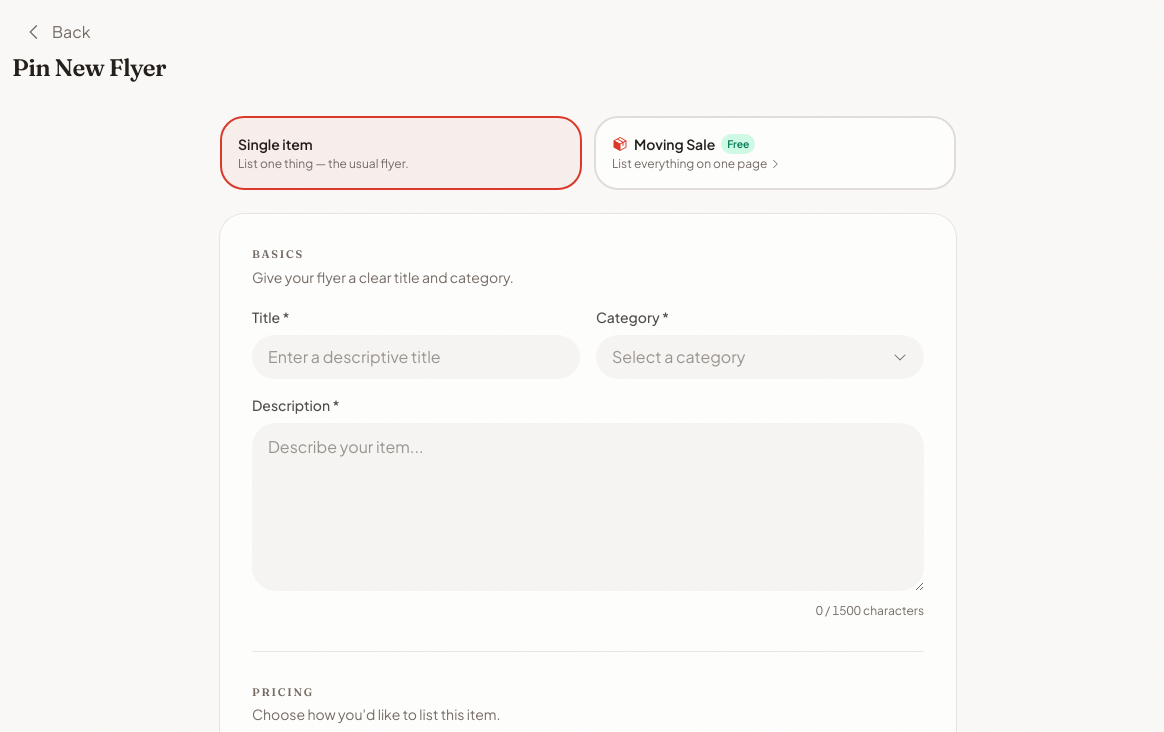
Scenario: PostAd › should update character counter when typing
In the text box with placeholder "Describe your item...": (588,506) [252, 422, 924, 590], type "Test description"
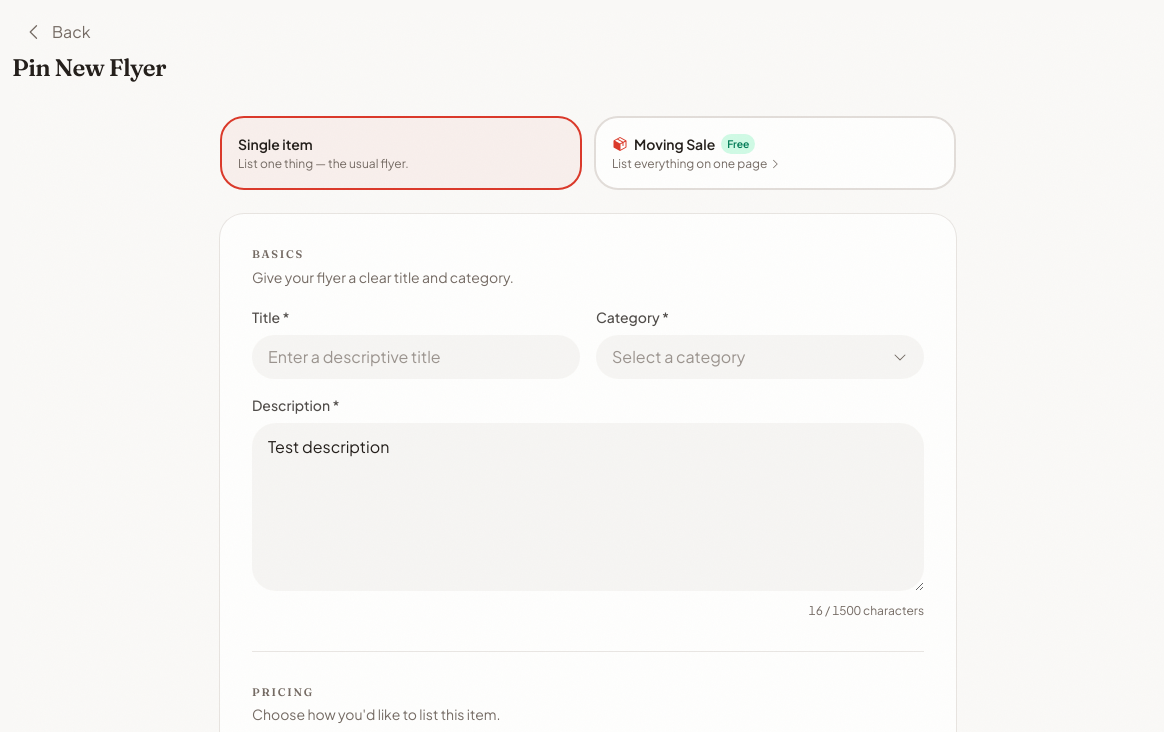
Now the text "16 / 1500 characters" is shown, box [808, 602, 924, 618]
